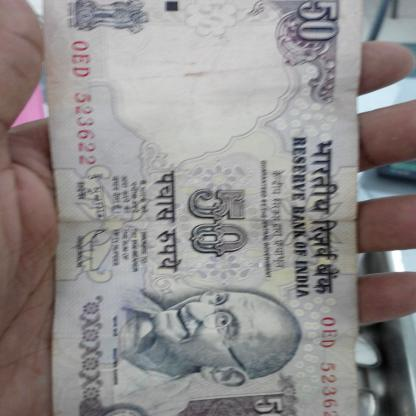Old50Front: (44, 0, 367, 416)
